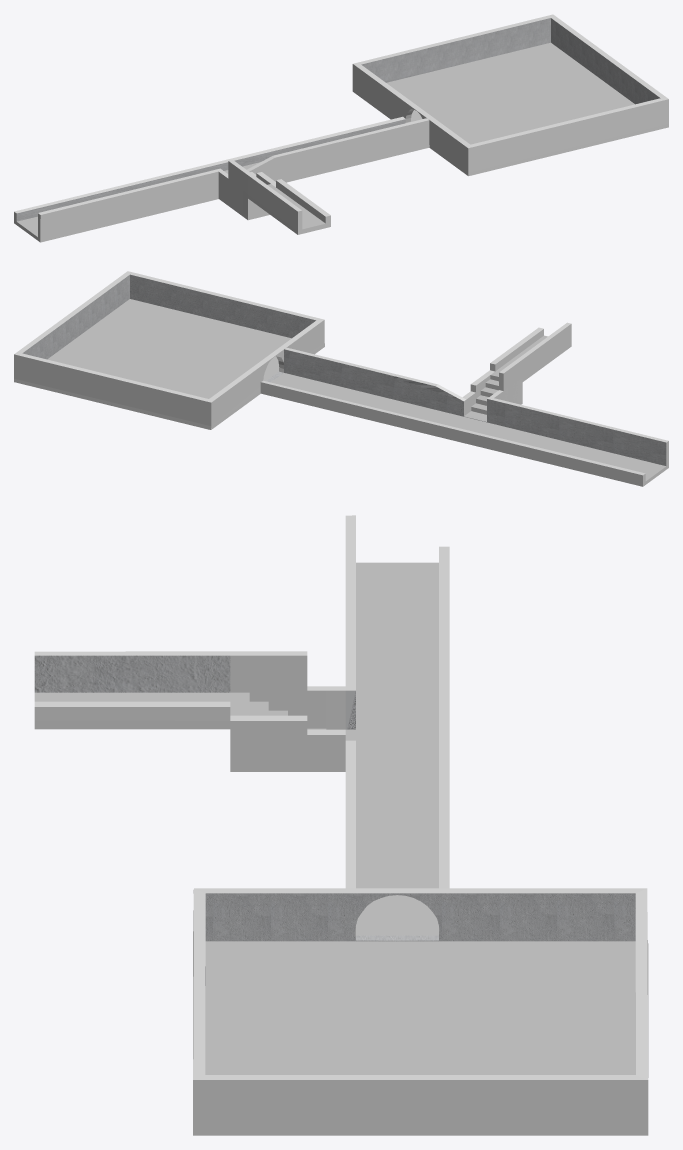
The model's file is TestModel.fbx.
The picture shows the model from 3 angles, top to bottom: view 1: azimuth 30°, elevation 25°; view 2: azimuth 150°, elevation 25°; view 3: azimuth 270°, elevation 25°; orthographic projection. The views are drawn at different scales.
Visible parts, largest first — view 1: Cube; view 2: Cube; view 3: Cube.
Boxes of the visible parts, box(x1,y1,x2,y2) form: Cube: box(14, 14, 668, 242); Cube: box(14, 271, 668, 486); Cube: box(34, 515, 648, 1135).
Bounding box in the file's own units: 6283 × 464 × 2880.
